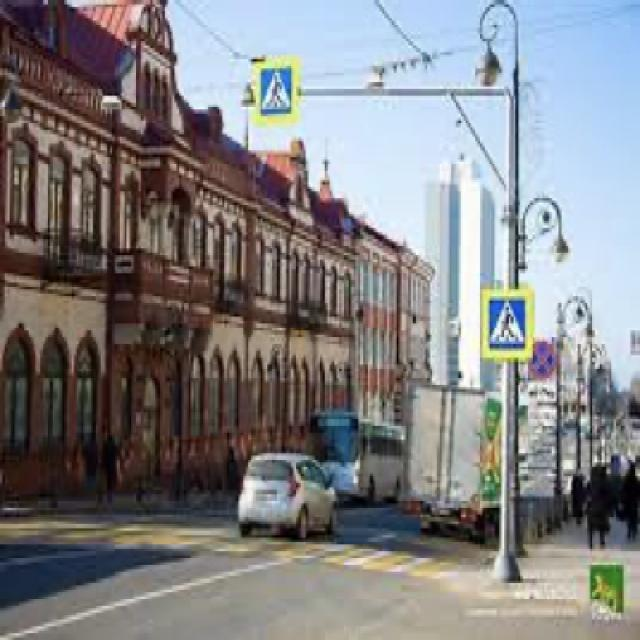crosswalk_sign: (486, 294, 528, 354), (256, 63, 296, 115)
